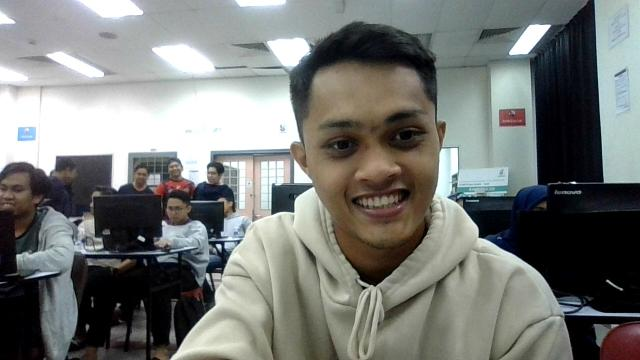senang: (295, 87, 433, 250)
